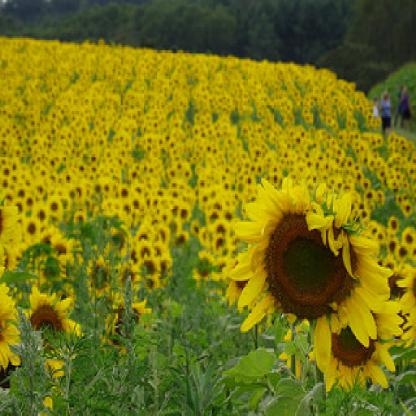SUN FLOWER: (5, 22, 416, 401)
